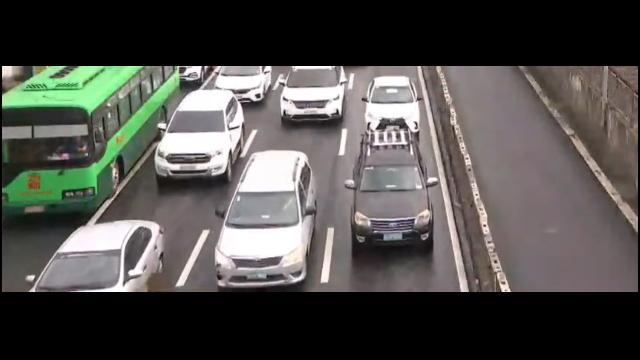bus: (0, 65, 180, 212)
car: (216, 151, 313, 289), (344, 131, 440, 263), (24, 220, 164, 293), (155, 90, 244, 186), (281, 66, 349, 129), (357, 77, 423, 132), (209, 64, 273, 106)
